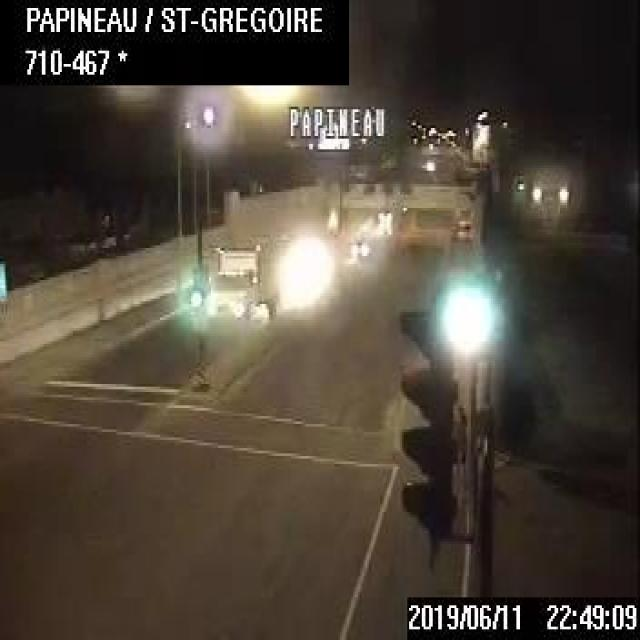vehicle: (206, 235, 276, 317), (349, 235, 367, 253), (374, 208, 391, 224)
